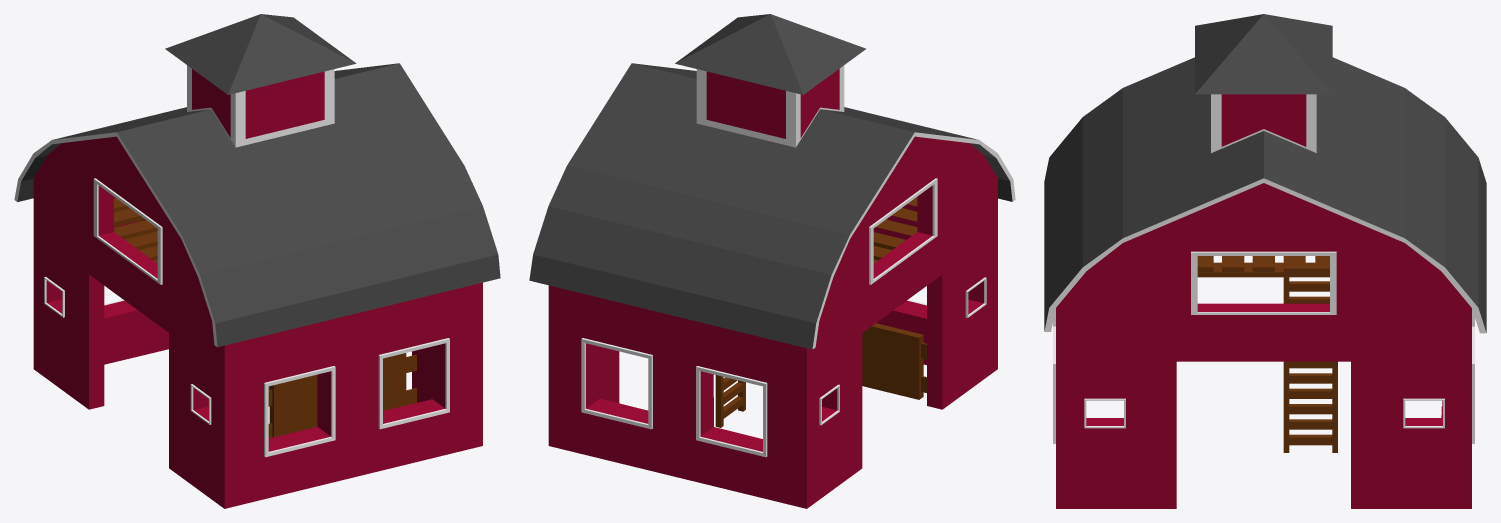
Rendered from barn.fbx.
3 views of the same model, side by side, from view 1: azimuth 30°, elevation 25°; view 2: azimuth 150°, elevation 25°; view 3: azimuth 270°, elevation 25° (orthographic). The views are drawn at different scales.
Visible parts, largest first — view 1: Cube.002, Cube.003; view 2: Cube.002, Cube.003, Cube; view 3: Cube.002, Cube.
Part boxes in pixels (x1,y1,x2,y2): Cube.002: (14, 14, 500, 508); Cube.003: (208, 353, 416, 438); Cube.002: (529, 14, 1015, 508); Cube.003: (862, 323, 926, 399); Cube: (715, 375, 745, 427); Cube.002: (1044, 14, 1486, 508); Cube: (1283, 266, 1337, 452).
Size of the model in its own units: 3200 by 4244 by 3977.
